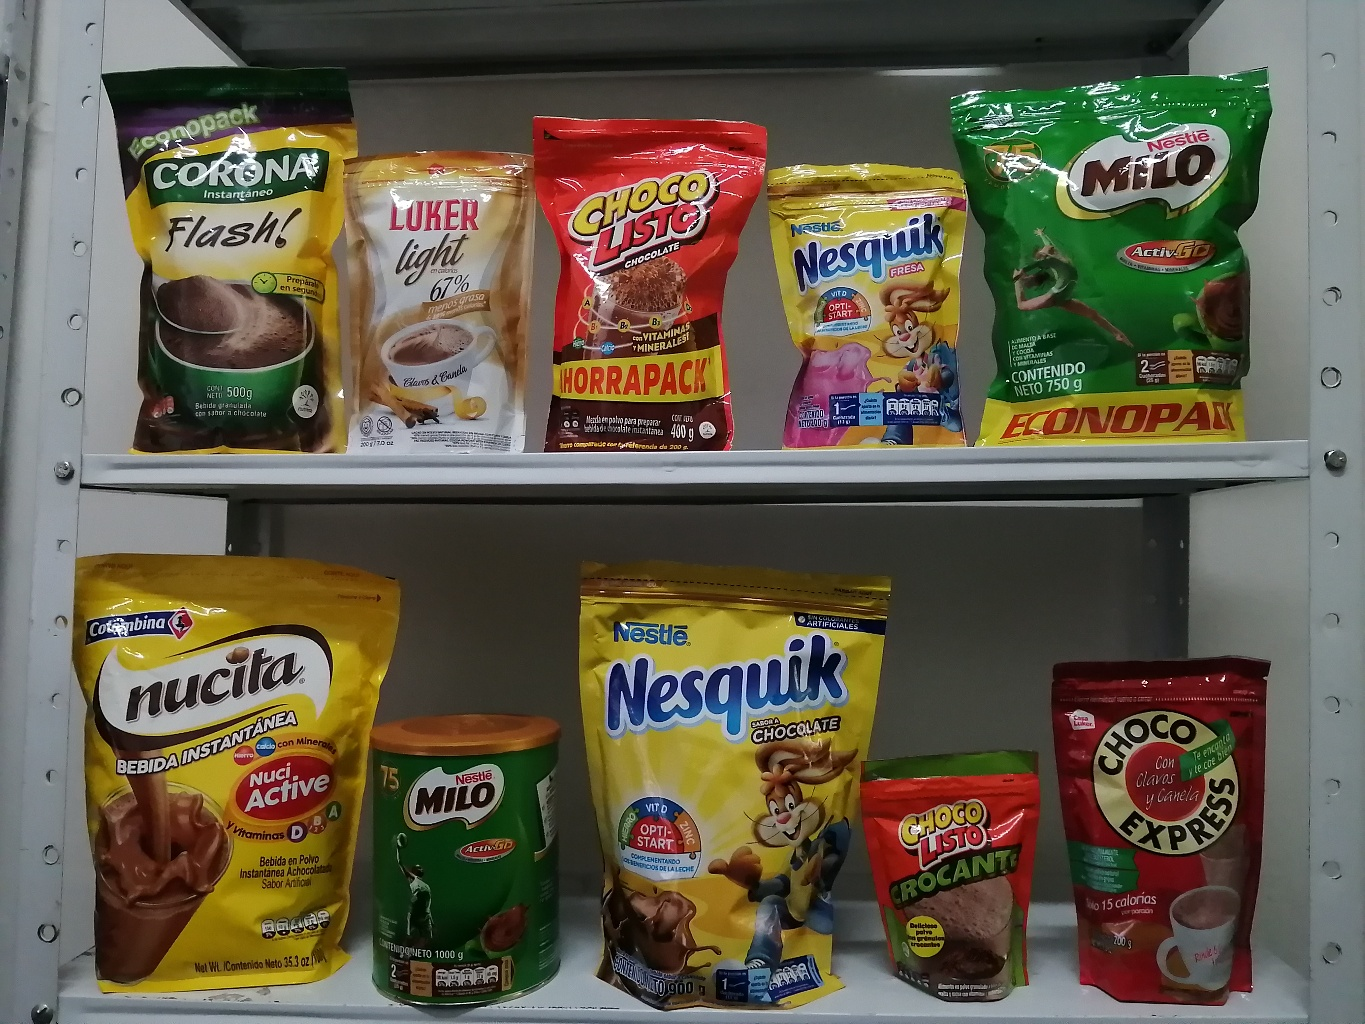COL0170102DYP10000: (855, 756, 1052, 998)
COL0170103DYP40000: (529, 115, 756, 447)
COL0170305DYP20000: (766, 158, 971, 440)
